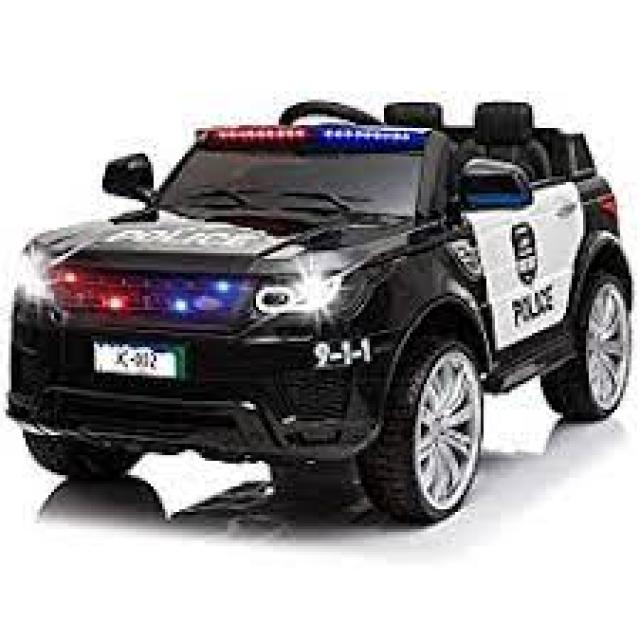Car: (3, 97, 631, 526)
